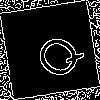Q: (24, 24, 87, 85)
